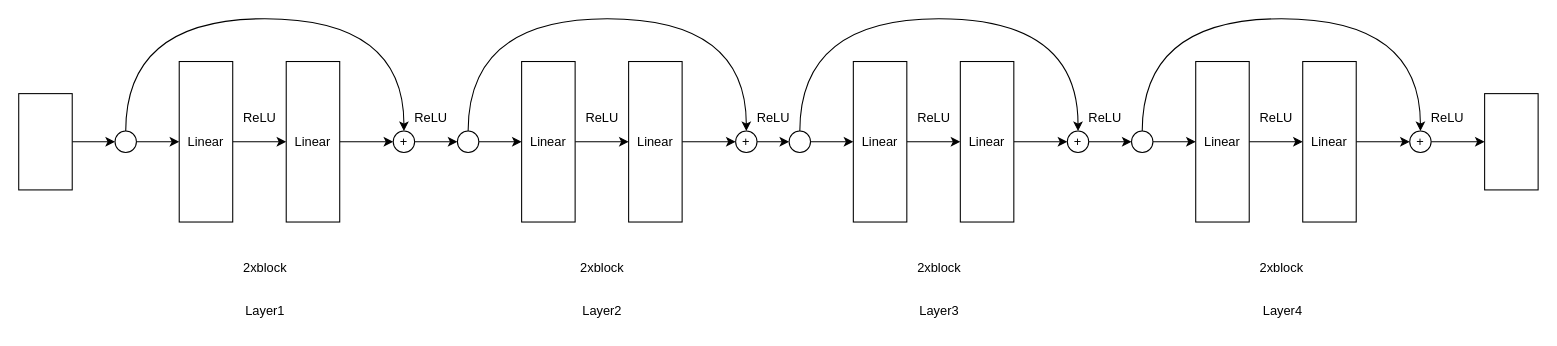
Some shapes in this 1557 by 346 pixel diagram are drawn without their labels. Here are the shapes that lost their labels. From the top down, the box of each, then its label:
(18, 93, 72, 190): in
(1484, 93, 1538, 190): out
